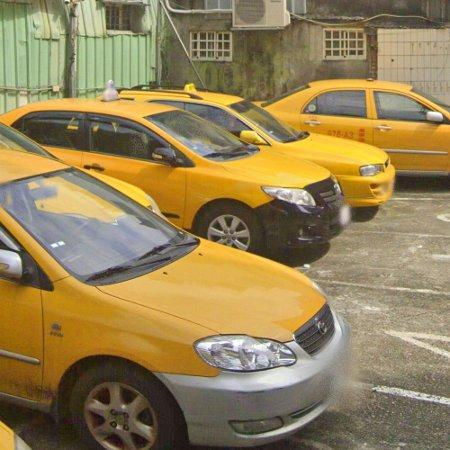taxis: (0, 150, 350, 450), (0, 99, 350, 256), (120, 87, 396, 221), (263, 79, 450, 175)
